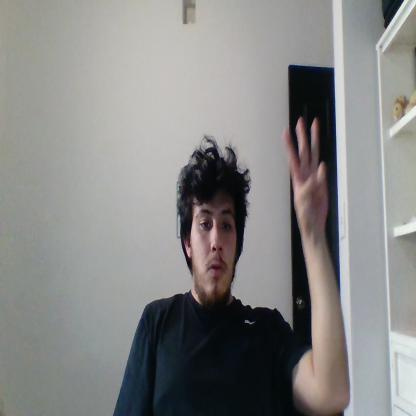W: (282, 117, 328, 234)
